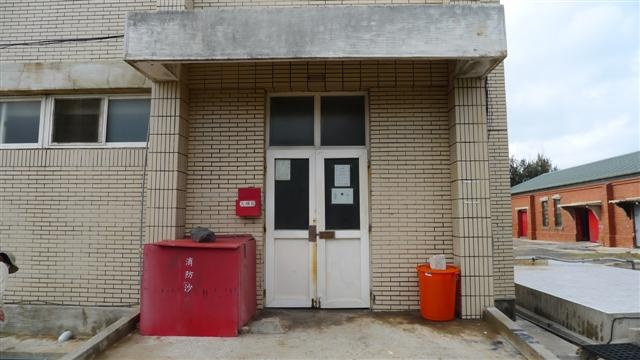bucket: (416, 259, 465, 323)
